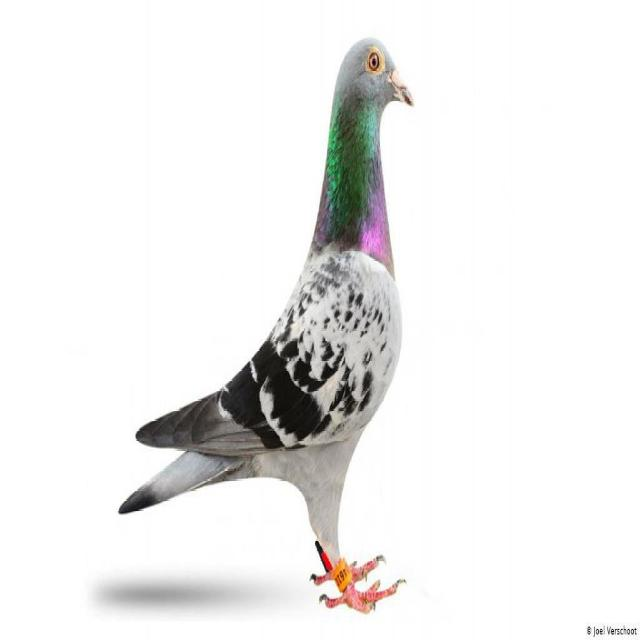Pigeon: (94, 30, 427, 615)
